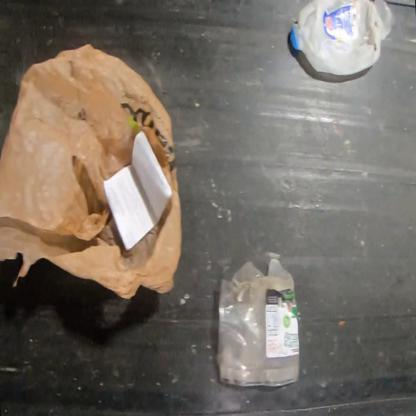rigid_plastic: (216, 257, 301, 387), (289, 1, 397, 76)
soft_plastic: (0, 42, 183, 299)
